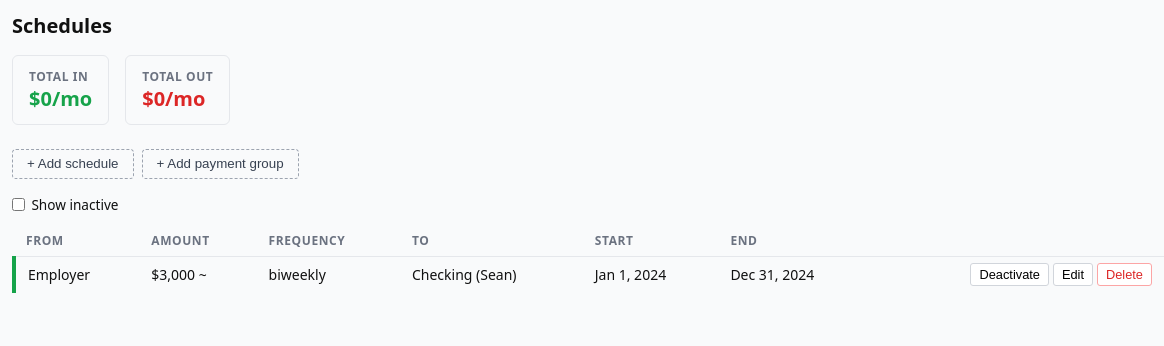
Test: SchedulesView — Active/inactive state › reveals inactive schedules, dimmed, when 'Show inactive' is checked
This screenshot has width=1164, height=346.
Click the checkbox labelled "Show inactive" at (18, 204), box [12, 198, 25, 211]
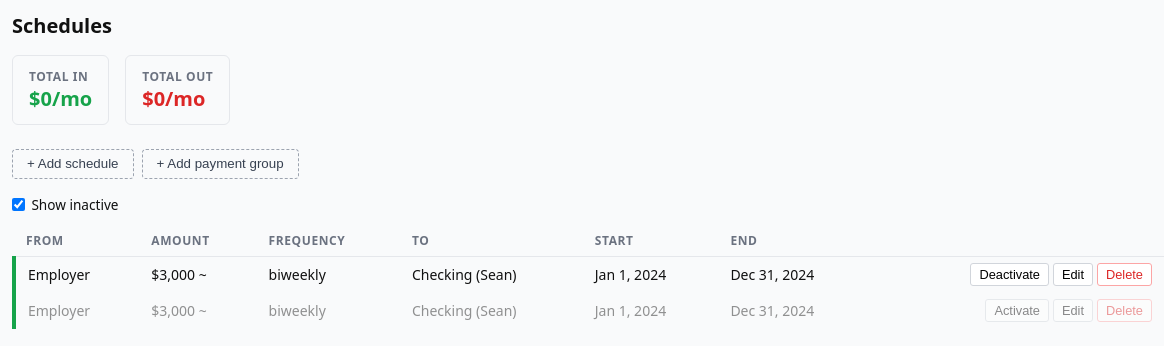
Expected: the number of rows is 3, [14, 226, 1163, 256]; [14, 256, 1163, 293]; [14, 293, 1163, 329]
